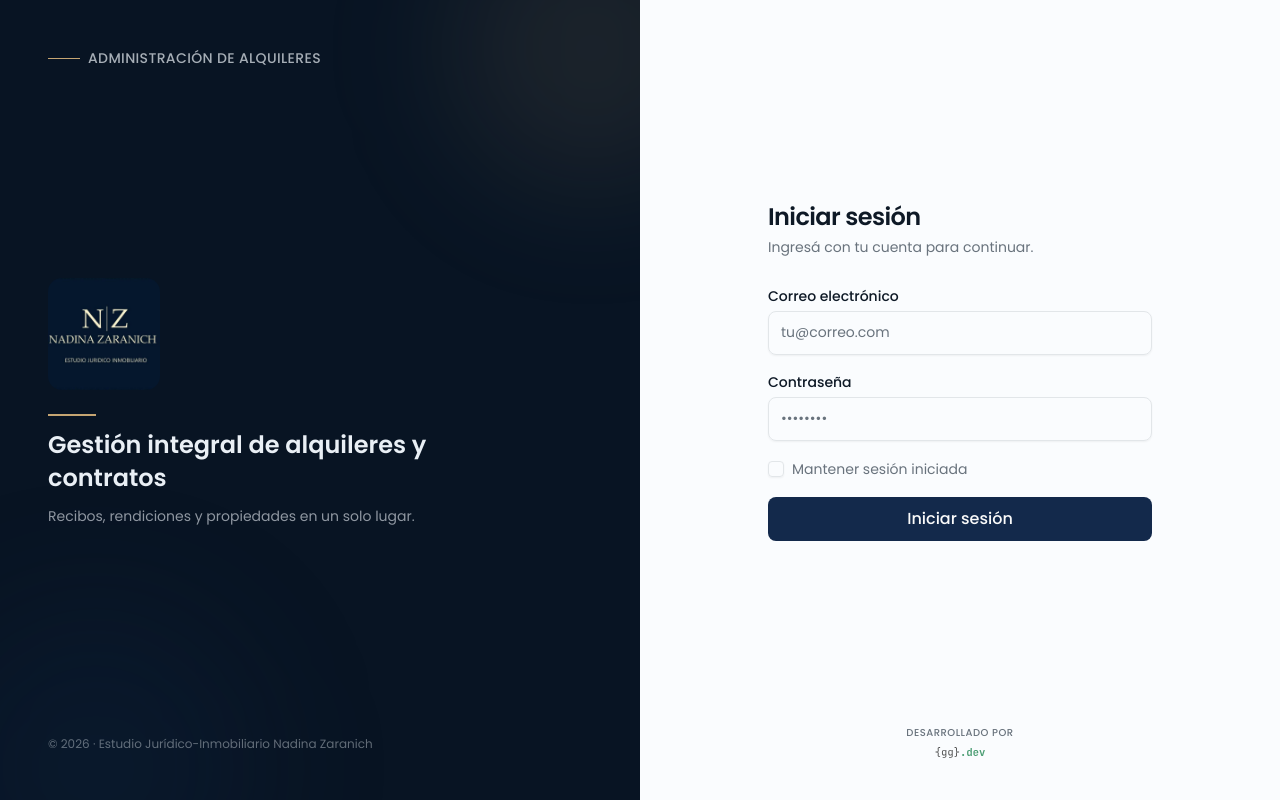
Test: LoginPage › muestra el error de campo ante un 422
In the field labelled "Correo electrónico": {"x": 960, "y": 332} [768,310,1152,354], type "admin@nz.com"
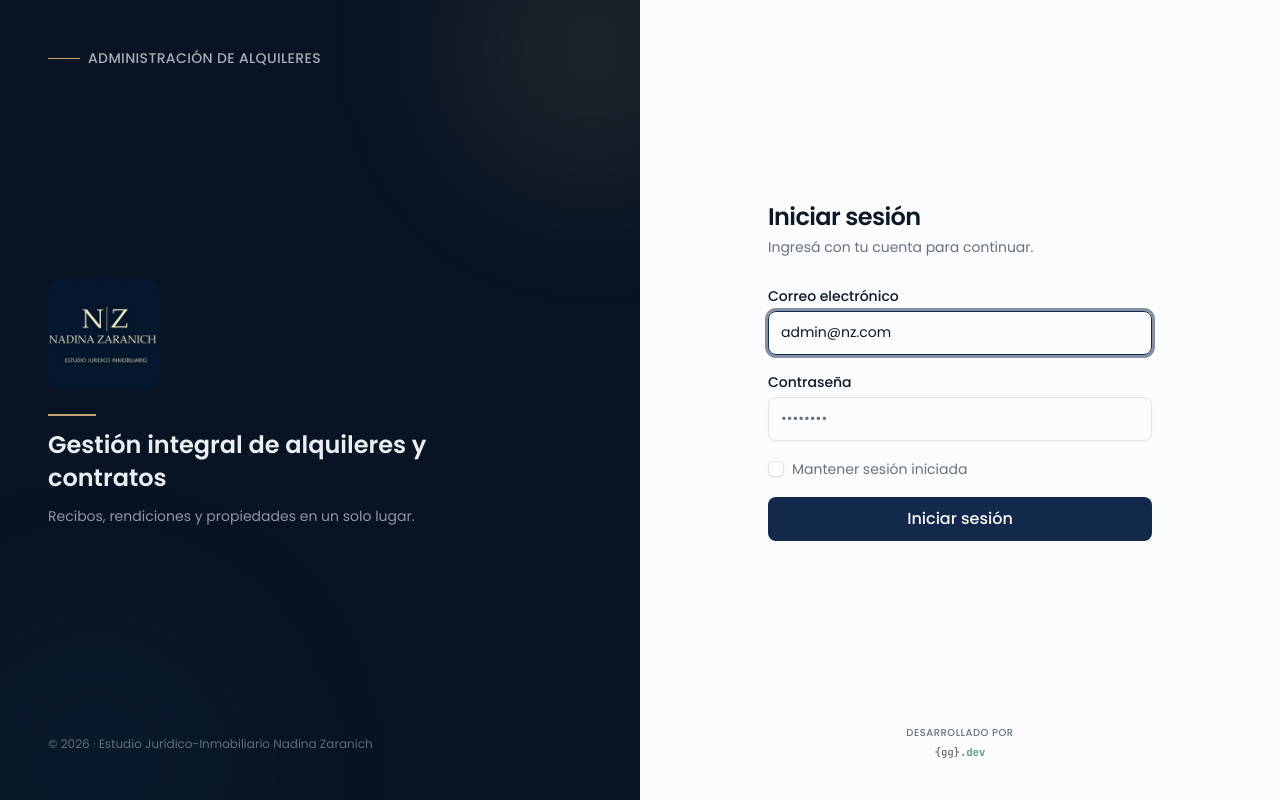
In the password field labelled "Contraseña": {"x": 960, "y": 418} [768,396,1152,440], type "wrong"
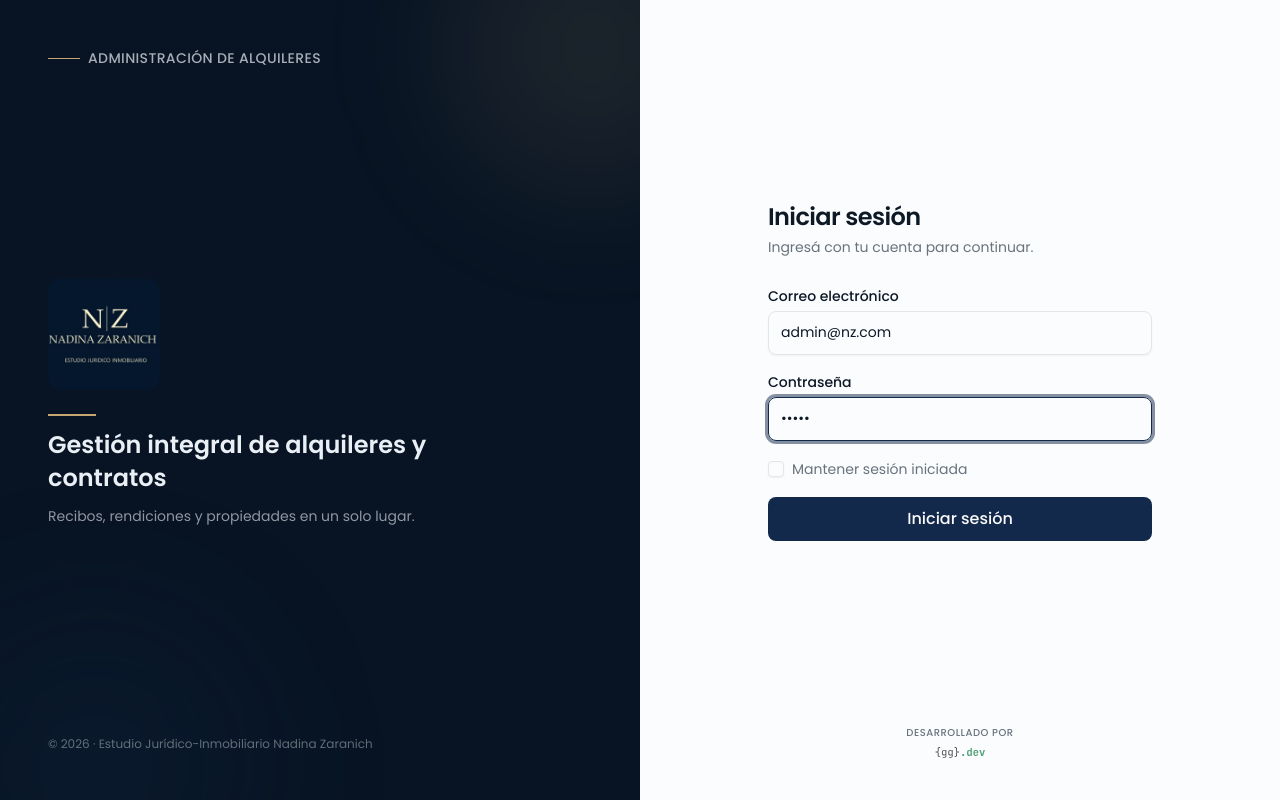
Click the button "Iniciar sesión": {"x": 960, "y": 518} [768,496,1152,540]
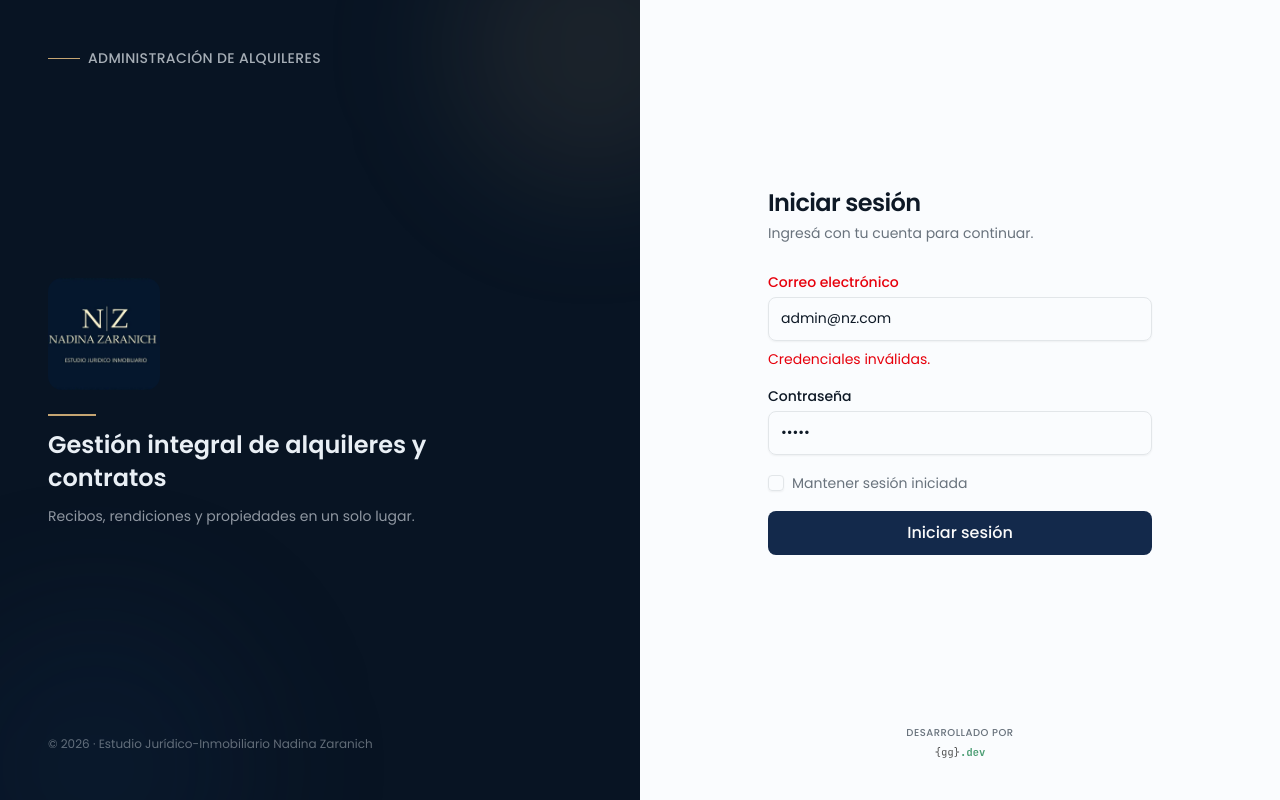
Result: the text "Credenciales inválidas." is shown at [768,348,930,368]
